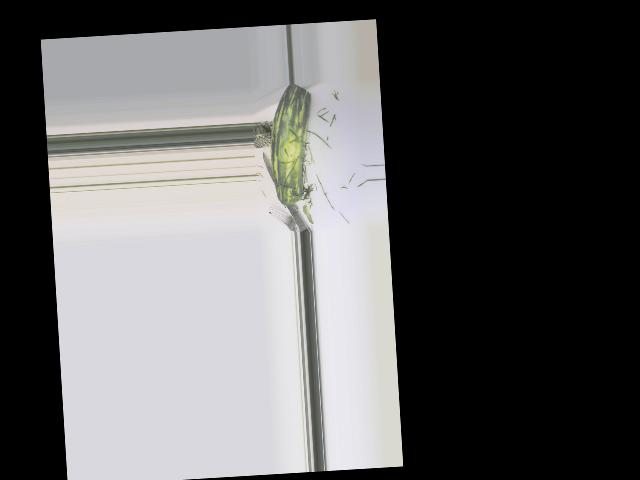cucumber: (267, 83, 317, 206)
